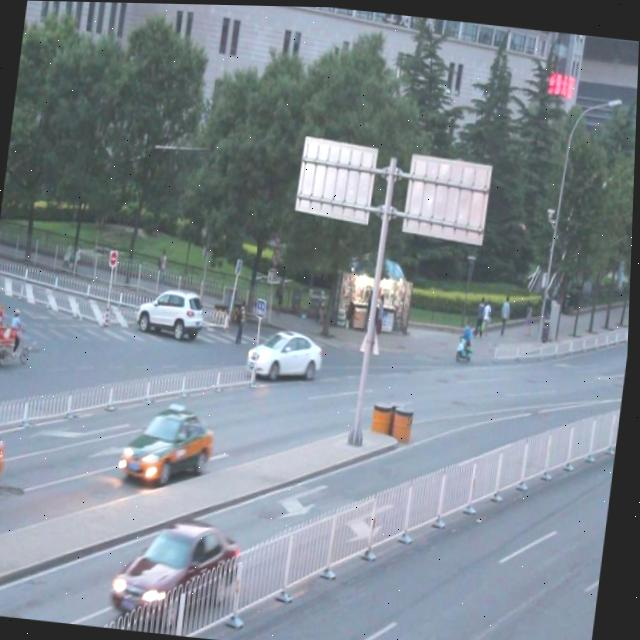car: (115, 512, 247, 624), (120, 402, 219, 487), (247, 326, 329, 381), (137, 284, 207, 339), (0, 413, 15, 493)
